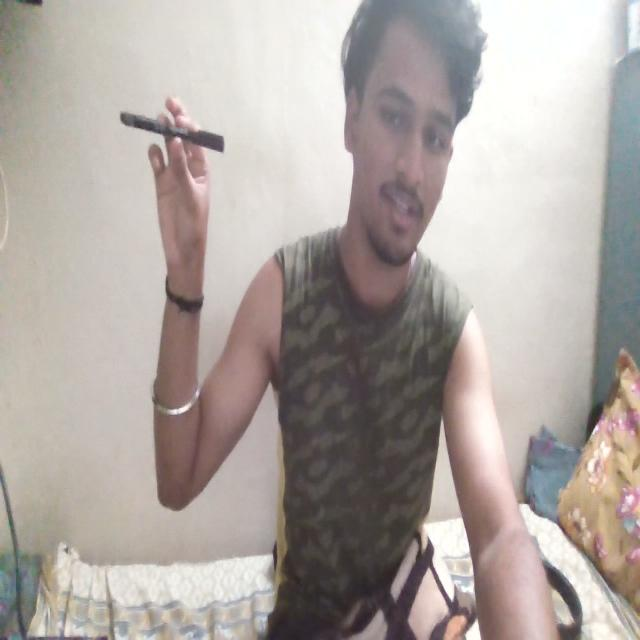marker: (111, 89, 248, 165)
